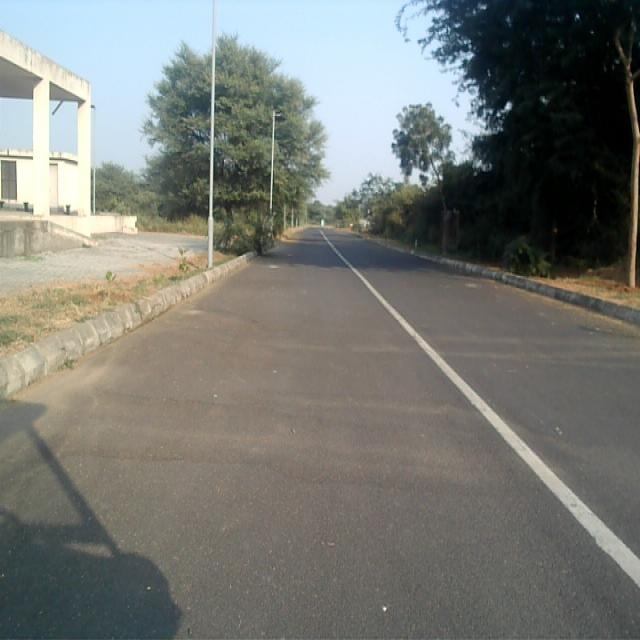lane: (0, 233, 640, 640)
